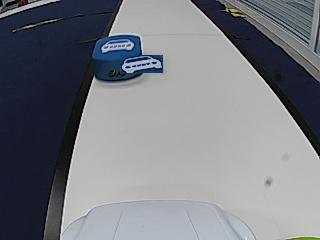safety: (100, 39, 135, 52)
